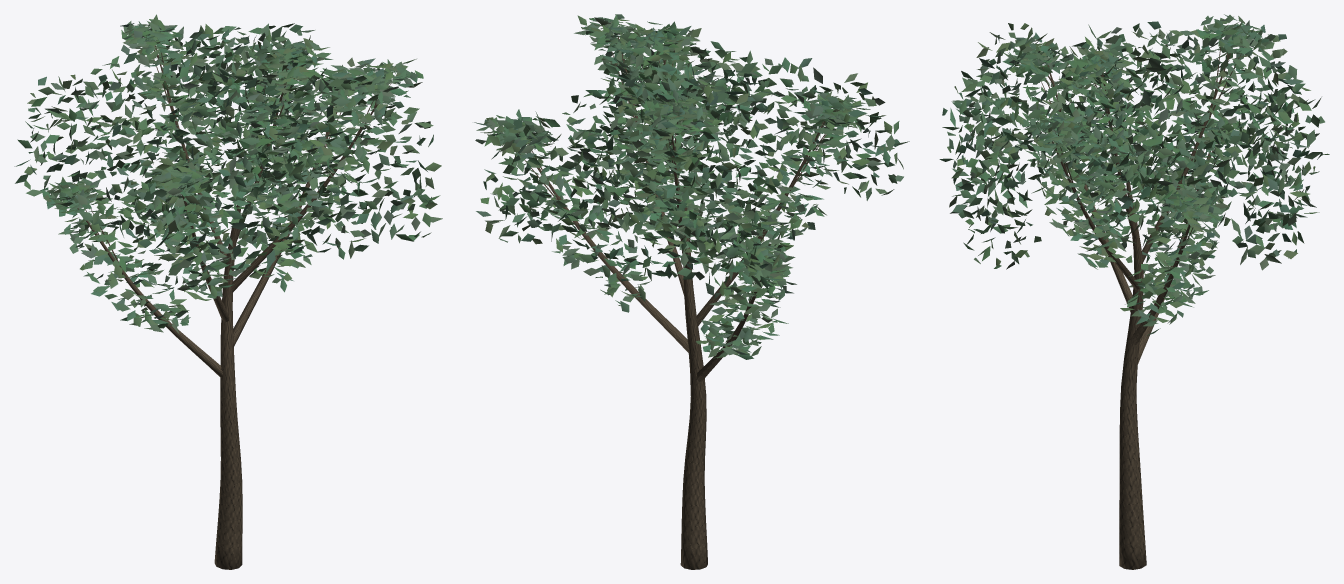
File: quay-banyan-c.glb
3 views of the same model, side by side, from view 1: azimuth 30°, elevation 25°; view 2: azimuth 150°, elevation 25°; view 3: azimuth 270°, elevation 25° (orthographic). The views are drawn at different scales.
Parts seen in each view (by area): view 1: leaves, bark; view 2: leaves, bark; view 3: leaves, bark.
Part boxes in pixels (x1,y1,x2,y2): leaves: (14,14,442,334); bark: (77,45,391,569); leaves: (474,14,909,359); bark: (501,35,826,569); leaves: (939,14,1329,335); bark: (1041,31,1244,569).
Size of the model in its own units: 7.66 by 11.48 by 7.63.
2 materials, 1 textured.
